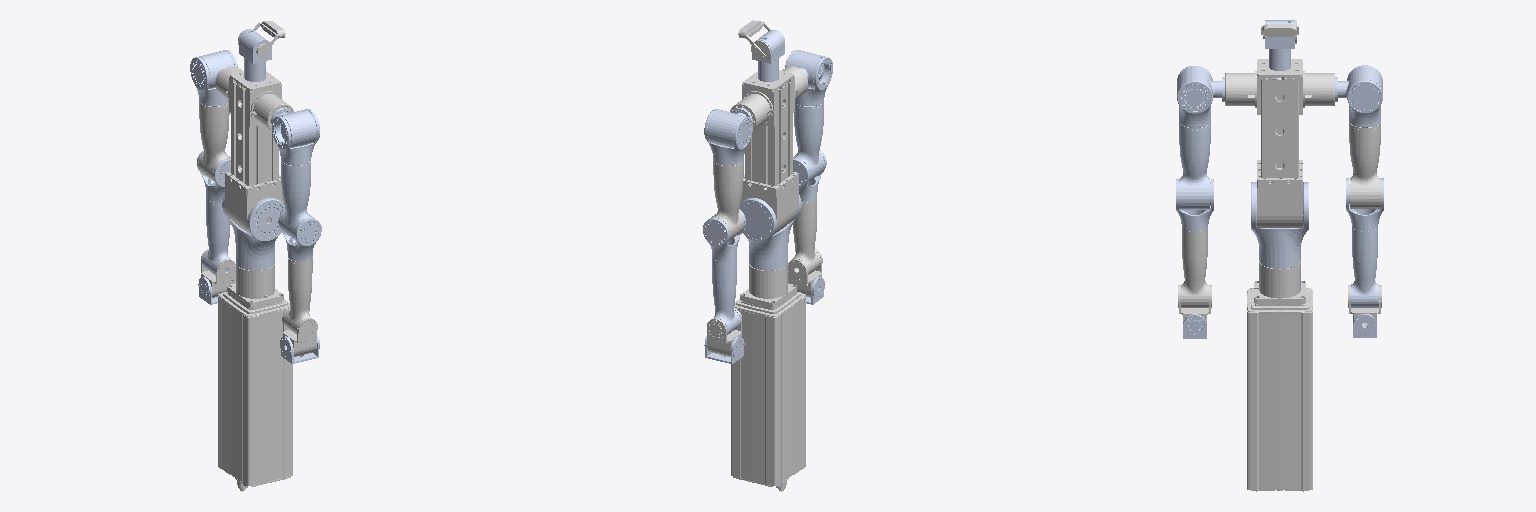
robot.urdf — H1:
<?xml version="1.0" encoding="utf-8"?>
<!-- This URDF was automatically created by SolidWorks to URDF Exporter! Originally created by Stephen Brawner (brawner@gmail.com) 
     Commit Version: 1.6.0-4-g7f85cfe  Build Version: 1.6.7995.38578
     For more information, please see http://wiki.ros.org/sw_urdf_exporter -->
<robot
  name="H1">
  <link
    name="base_link">
    <inertial>
      <origin
        xyz="-1.8555E-05 -2.7511E-05 0.27469"
        rpy="0 0 0" />
      <mass
        value="14.282" />
      <inertia
        ixx="0.36802"
        ixy="2.4121E-08"
        ixz="-3.9806E-06"
        iyy="0.35825"
        iyz="1.9699E-05"
        izz="0.061685" />
    </inertial>
    <visual>
      <origin
        xyz="0 0 0"
        rpy="0 0 0" />
      <geometry>
        <mesh
          filename="package://H1/meshes/base_link.STL" />
      </geometry>
      <material
        name="">
        <color
          rgba="0.89412 0.89412 0.89412 1" />
      </material>
    </visual>
    <collision>
      <origin
        xyz="0 0 0"
        rpy="0 0 0" />
      <geometry>
        <mesh
          filename="package://H1/meshes/base_link.STL" />
      </geometry>
    </collision>
  </link>
  <link
    name="waist_Link_j1">
    <inertial>
      <origin
        xyz="-7.2904E-06 -0.0083807 0.096361"
        rpy="0 0 0" />
      <mass
        value="1.677" />
      <inertia
        ixx="0.0079723"
        ixy="3.3223E-07"
        ixz="6.4221E-07"
        iyy="0.0066121"
        iyz="0.00039378"
        izz="0.0055981" />
    </inertial>
    <visual>
      <origin
        xyz="0 0 0"
        rpy="0 0 0" />
      <geometry>
        <mesh
          filename="package://H1/meshes/waist_Link_j1.STL" />
      </geometry>
      <material
        name="">
        <color
          rgba="0.86667 0.9098 1 1" />
      </material>
    </visual>
    <collision>
      <origin
        xyz="0 0 0"
        rpy="0 0 0" />
      <geometry>
        <mesh
          filename="package://H1/meshes/waist_Link_j1.STL" />
      </geometry>
    </collision>
  </link>
  <joint
    name="J1"
    type="revolute">
    <origin
      xyz="0 0 0.641"
      rpy="0 0 0" />
    <parent
      link="base_link" />
    <child
      link="waist_Link_j1" />
    <axis
      xyz="0 0 -1" />
    <limit
      lower="0"
      upper="0"
      effort="0"
      velocity="0" />
  </joint>
  <link
    name="waist_link_J2">
    <inertial>
      <origin
        xyz="-3.6907E-07 -0.0043997 0.20706"
        rpy="0 0 0" />
      <mass
        value="2.9129" />
      <inertia
        ixx="0.013533"
        ixy="7.2558E-09"
        ixz="-2.8162E-08"
        iyy="0.014161"
        iyz="-3.232E-06"
        izz="0.006488" />
    </inertial>
    <visual>
      <origin
        xyz="0 0 0"
        rpy="0 0 0" />
      <geometry>
        <mesh
          filename="package://H1/meshes/waist_link_J2.STL" />
      </geometry>
      <material
        name="">
        <color
          rgba="0.89412 0.89412 0.89412 1" />
      </material>
    </visual>
    <collision>
      <origin
        xyz="0 0 0"
        rpy="0 0 0" />
      <geometry>
        <mesh
          filename="package://H1/meshes/waist_link_J2.STL" />
      </geometry>
    </collision>
  </link>
  <joint
    name="waist_J2"
    type="revolute">
    <origin
      xyz="0 0 0.16"
      rpy="0 0 0" />
    <parent
      link="waist_Link_j1" />
    <child
      link="waist_link_J2" />
    <axis
      xyz="0 1 0" />
    <limit
      lower="0"
      upper="0"
      effort="0"
      velocity="0" />
  </joint>
  <link
    name="left_link_J1">
    <inertial>
      <origin
        xyz="-0.0043288 0.069057 -4.5569E-05"
        rpy="0 0 0" />
      <mass
        value="0.4143" />
      <inertia
        ixx="0.00094555"
        ixy="8.5245E-06"
        ixz="-4.4453E-07"
        iyy="0.0006241"
        iyz="9.241E-08"
        izz="0.00078642" />
    </inertial>
    <visual>
      <origin
        xyz="0 0 0"
        rpy="0 0 0" />
      <geometry>
        <mesh
          filename="package://H1/meshes/left_link_J1.STL" />
      </geometry>
      <material
        name="">
        <color
          rgba="0.86667 0.9098 1 1" />
      </material>
    </visual>
    <collision>
      <origin
        xyz="0 0 0"
        rpy="0 0 0" />
      <geometry>
        <mesh
          filename="package://H1/meshes/left_link_J1.STL" />
      </geometry>
    </collision>
  </link>
  <joint
    name="Left_J1"
    type="revolute">
    <origin
      xyz="0 0.1505 0.34"
      rpy="0 0 0" />
    <parent
      link="waist_link_J2" />
    <child
      link="left_link_J1" />
    <axis
      xyz="0 1 0" />
    <limit
      lower="0"
      upper="0"
      effort="0"
      velocity="0" />
  </joint>
  <link
    name="Left_Link_J2">
    <inertial>
      <origin
        xyz="-0.0036277 2.762E-08 -0.039885"
        rpy="0 0 0" />
      <mass
        value="0.52341" />
      <inertia
        ixx="0.0010724"
        ixy="4.1531E-10"
        ixz="3.5524E-05"
        iyy="0.001254"
        iyz="1.098E-08"
        izz="0.00097409" />
    </inertial>
    <visual>
      <origin
        xyz="0 0 0"
        rpy="0 0 0" />
      <geometry>
        <mesh
          filename="package://H1/meshes/Left_Link_J2.STL" />
      </geometry>
      <material
        name="">
        <color
          rgba="0.86667 0.9098 1 1" />
      </material>
    </visual>
    <collision>
      <origin
        xyz="0 0 0"
        rpy="0 0 0" />
      <geometry>
        <mesh
          filename="package://H1/meshes/Left_Link_J2.STL" />
      </geometry>
    </collision>
  </link>
  <joint
    name="Left_J2"
    type="revolute">
    <origin
      xyz="0 0.075 0"
      rpy="0 0 0" />
    <parent
      link="left_link_J1" />
    <child
      link="Left_Link_J2" />
    <axis
      xyz="1 0 0" />
    <limit
      lower="0"
      upper="0"
      effort="0"
      velocity="0" />
  </joint>
  <link
    name="Left_Link_J3">
    <inertial>
      <origin
        xyz="0.0056911 -0.0019239 -0.13085"
        rpy="0 0 0" />
      <mass
        value="0.57095" />
      <inertia
        ixx="0.0032686"
        ixy="5.8681E-06"
        ixz="0.00023039"
        iyy="0.0033236"
        iyz="-6.6E-05"
        izz="0.00081295" />
    </inertial>
    <visual>
      <origin
        xyz="0 0 0"
        rpy="0 0 0" />
      <geometry>
        <mesh
          filename="package://H1/meshes/Left_Link_J3.STL" />
      </geometry>
      <material
        name="">
        <color
          rgba="0.89412 0.89412 0.89412 1" />
      </material>
    </visual>
    <collision>
      <origin
        xyz="0 0 0"
        rpy="0 0 0" />
      <geometry>
        <mesh
          filename="package://H1/meshes/Left_Link_J3.STL" />
      </geometry>
    </collision>
  </link>
  <joint
    name="Left_J3"
    type="revolute">
    <origin
      xyz="0 0 -0.093"
      rpy="0 0 0" />
    <parent
      link="Left_Link_J2" />
    <child
      link="Left_Link_J3" />
    <axis
      xyz="0 0 1" />
    <limit
      lower="0"
      upper="0"
      effort="0"
      velocity="0" />
  </joint>
  <link
    name="left_Link_j4">
    <inertial>
      <origin
        xyz="-0.00025246 -0.0039161 -0.041415"
        rpy="0 0 0" />
      <mass
        value="0.44416" />
      <inertia
        ixx="0.00095212"
        ixy="3.4384E-07"
        ixz="-4.8819E-06"
        iyy="0.00071305"
        iyz="4.7723E-05"
        izz="0.00065512" />
    </inertial>
    <visual>
      <origin
        xyz="0 0 0"
        rpy="0 0 0" />
      <geometry>
        <mesh
          filename="package://H1/meshes/left_Link_j4.STL" />
      </geometry>
      <material
        name="">
        <color
          rgba="0.86667 0.9098 1 1" />
      </material>
    </visual>
    <collision>
      <origin
        xyz="0 0 0"
        rpy="0 0 0" />
      <geometry>
        <mesh
          filename="package://H1/meshes/left_Link_j4.STL" />
      </geometry>
    </collision>
  </link>
  <joint
    name="Left_J4"
    type="revolute">
    <origin
      xyz="0.012 0 -0.2065"
      rpy="0 0 0" />
    <parent
      link="Left_Link_J3" />
    <child
      link="left_Link_j4" />
    <axis
      xyz="0 -1 0" />
    <limit
      lower="0"
      upper="0"
      effort="0"
      velocity="0" />
  </joint>
  <link
    name="Left_Link_J5">
    <inertial>
      <origin
        xyz="-3.7549E-06 0.0015048 -0.11283"
        rpy="0 0 0" />
      <mass
        value="0.4197" />
      <inertia
        ixx="0.0021747"
        ixy="3.5119E-08"
        ixz="-2.8092E-07"
        iyy="0.0021607"
        iyz="5.1943E-05"
        izz="0.00040276" />
    </inertial>
    <visual>
      <origin
        xyz="0 0 0"
        rpy="0 0 0" />
      <geometry>
        <mesh
          filename="package://H1/meshes/Left_Link_J5.STL" />
      </geometry>
      <material
        name="">
        <color
          rgba="0.86667 0.9098 1 1" />
      </material>
    </visual>
    <collision>
      <origin
        xyz="0 0 0"
        rpy="0 0 0" />
      <geometry>
        <mesh
          filename="package://H1/meshes/Left_Link_J5.STL" />
      </geometry>
    </collision>
  </link>
  <joint
    name="Left_J5"
    type="revolute">
    <origin
      xyz="0 0 -0.0948"
      rpy="0 0 0" />
    <parent
      link="left_Link_j4" />
    <child
      link="Left_Link_J5" />
    <axis
      xyz="0 0 1" />
    <limit
      lower="0"
      upper="0"
      effort="0"
      velocity="0" />
  </joint>
  <link
    name="Left_Link_J6">
    <inertial>
      <origin
        xyz="-0.0010919 0.0066883 -0.030929"
        rpy="0 0 0" />
      <mass
        value="0.16918" />
      <inertia
        ixx="0.00017677"
        ixy="-7.4453E-07"
        ixz="-2.7613E-06"
        iyy="0.00015648"
        iyz="-2.7782E-06"
        izz="0.00014765" />
    </inertial>
    <visual>
      <origin
        xyz="0 0 0"
        rpy="0 0 0" />
      <geometry>
        <mesh
          filename="package://H1/meshes/Left_Link_J6.STL" />
      </geometry>
      <material
        name="">
        <color
          rgba="0.89412 0.89412 0.89412 1" />
      </material>
    </visual>
    <collision>
      <origin
        xyz="0 0 0"
        rpy="0 0 0" />
      <geometry>
        <mesh
          filename="package://H1/meshes/Left_Link_J6.STL" />
      </geometry>
    </collision>
  </link>
  <joint
    name="Left_J6"
    type="revolute">
    <origin
      xyz="0 0 -0.2049"
      rpy="0 0 0" />
    <parent
      link="Left_Link_J5" />
    <child
      link="Left_Link_J6" />
    <axis
      xyz="0 1 0" />
    <limit
      lower="0"
      upper="0"
      effort="0"
      velocity="0" />
  </joint>
  <link
    name="Left_Link_J7">
    <inertial>
      <origin
        xyz="-0.0023003 4.8562E-06 -0.019732"
        rpy="0 0 0" />
      <mass
        value="0.16822" />
      <inertia
        ixx="0.00011104"
        ixy="3.8113E-08"
        ixz="4.2415E-06"
        iyy="0.00019906"
        iyz="-3.6624E-09"
        izz="0.00019805" />
    </inertial>
    <visual>
      <origin
        xyz="0 0 0"
        rpy="0 0 0" />
      <geometry>
        <mesh
          filename="package://H1/meshes/Left_Link_J7.STL" />
      </geometry>
      <material
        name="">
        <color
          rgba="0.86667 0.9098 1 1" />
      </material>
    </visual>
    <collision>
      <origin
        xyz="0 0 0"
        rpy="0 0 0" />
      <geometry>
        <mesh
          filename="package://H1/meshes/Left_Link_J7.STL" />
      </geometry>
    </collision>
  </link>
  <joint
    name="Left_J7"
    type="revolute">
    <origin
      xyz="0 0 -0.064"
      rpy="0 0 0" />
    <parent
      link="Left_Link_J6" />
    <child
      link="Left_Link_J7" />
    <axis
      xyz="1 0 0" />
    <limit
      lower="0"
      upper="0"
      effort="0"
      velocity="0" />
  </joint>
  <link
    name="Right_Link_J1">
    <inertial>
      <origin
        xyz="0.0043288 -0.069057 -4.5569E-05"
        rpy="0 0 0" />
      <mass
        value="0.4143" />
      <inertia
        ixx="0.00094555"
        ixy="8.5245E-06"
        ixz="4.4453E-07"
        iyy="0.0006241"
        iyz="-9.241E-08"
        izz="0.00078642" />
    </inertial>
    <visual>
      <origin
        xyz="0 0 0"
        rpy="0 0 0" />
      <geometry>
        <mesh
          filename="package://H1/meshes/Right_Link_J1.STL" />
      </geometry>
      <material
        name="">
        <color
          rgba="0.86667 0.9098 1 1" />
      </material>
    </visual>
    <collision>
      <origin
        xyz="0 0 0"
        rpy="0 0 0" />
      <geometry>
        <mesh
          filename="package://H1/meshes/Right_Link_J1.STL" />
      </geometry>
    </collision>
  </link>
  <joint
    name="Right_J1"
    type="revolute">
    <origin
      xyz="0 -0.1505 0.34"
      rpy="0 0 0" />
    <parent
      link="waist_link_J2" />
    <child
      link="Right_Link_J1" />
    <axis
      xyz="0 -1 0" />
    <limit
      lower="0"
      upper="0"
      effort="0"
      velocity="0" />
  </joint>
  <link
    name="Right_Link_J2">
    <inertial>
      <origin
        xyz="0.0038069 -3.3841E-08 -0.040778"
        rpy="0 0 0" />
      <mass
        value="0.51194" />
      <inertia
        ixx="0.0010654"
        ixy="3.8697E-10"
        ixz="-3.5524E-05"
        iyy="0.0012505"
        iyz="-1.0972E-08"
        izz="0.00097059" />
    </inertial>
    <visual>
      <origin
        xyz="0 0 0"
        rpy="0 0 0" />
      <geometry>
        <mesh
          filename="package://H1/meshes/Right_Link_J2.STL" />
      </geometry>
      <material
        name="">
        <color
          rgba="0.86667 0.9098 1 1" />
      </material>
    </visual>
    <collision>
      <origin
        xyz="0 0 0"
        rpy="0 0 0" />
      <geometry>
        <mesh
          filename="package://H1/meshes/Right_Link_J2.STL" />
      </geometry>
    </collision>
  </link>
  <joint
    name="Right_J2"
    type="revolute">
    <origin
      xyz="0.001 -0.075 0"
      rpy="0 0 0" />
    <parent
      link="Right_Link_J1" />
    <child
      link="Right_Link_J2" />
    <axis
      xyz="-1 0 0" />
    <limit
      lower="0"
      upper="0"
      effort="0"
      velocity="0" />
  </joint>
  <link
    name="Right_Link_J3">
    <inertial>
      <origin
        xyz="0.0066911 -0.0019239 -0.13085"
        rpy="0 0 0" />
      <mass
        value="0.57095" />
      <inertia
        ixx="0.0032686"
        ixy="5.8681E-06"
        ixz="0.00023039"
        iyy="0.0033236"
        iyz="-6.6E-05"
        izz="0.00081295" />
    </inertial>
    <visual>
      <origin
        xyz="0 0 0"
        rpy="0 0 0" />
      <geometry>
        <mesh
          filename="package://H1/meshes/Right_Link_J3.STL" />
      </geometry>
      <material
        name="">
        <color
          rgba="0.86667 0.9098 1 1" />
      </material>
    </visual>
    <collision>
      <origin
        xyz="0 0 0"
        rpy="0 0 0" />
      <geometry>
        <mesh
          filename="package://H1/meshes/Right_Link_J3.STL" />
      </geometry>
    </collision>
  </link>
  <joint
    name="Right_J3"
    type="revolute">
    <origin
      xyz="0 0 -0.093"
      rpy="0 0 0" />
    <parent
      link="Right_Link_J2" />
    <child
      link="Right_Link_J3" />
    <axis
      xyz="0 0 1" />
    <limit
      lower="0"
      upper="0"
      effort="0"
      velocity="0" />
  </joint>
  <link
    name="Right_Link_J4">
    <inertial>
      <origin
        xyz="-0.00025246 -0.0039161 -0.041415"
        rpy="0 0 0" />
      <mass
        value="0.44416" />
      <inertia
        ixx="0.00095212"
        ixy="3.4384E-07"
        ixz="-4.8819E-06"
        iyy="0.00071305"
        iyz="4.7723E-05"
        izz="0.00065512" />
    </inertial>
    <visual>
      <origin
        xyz="0 0 0"
        rpy="0 0 0" />
      <geometry>
        <mesh
          filename="package://H1/meshes/Right_Link_J4.STL" />
      </geometry>
      <material
        name="">
        <color
          rgba="0.86667 0.9098 1 1" />
      </material>
    </visual>
    <collision>
      <origin
        xyz="0 0 0"
        rpy="0 0 0" />
      <geometry>
        <mesh
          filename="package://H1/meshes/Right_Link_J4.STL" />
      </geometry>
    </collision>
  </link>
  <joint
    name="Right_J4"
    type="revolute">
    <origin
      xyz="0.013 0 -0.2065"
      rpy="0 0 0" />
    <parent
      link="Right_Link_J3" />
    <child
      link="Right_Link_J4" />
    <axis
      xyz="0 -1 0" />
    <limit
      lower="0"
      upper="0"
      effort="0"
      velocity="0" />
  </joint>
  <link
    name="Right_Link_J5">
    <inertial>
      <origin
        xyz="3.7549E-06 -0.0015048 -0.11283"
        rpy="0 0 0" />
      <mass
        value="0.4197" />
      <inertia
        ixx="0.0021747"
        ixy="3.5119E-08"
        ixz="2.8092E-07"
        iyy="0.0021607"
        iyz="-5.1943E-05"
        izz="0.00040276" />
    </inertial>
    <visual>
      <origin
        xyz="0 0 0"
        rpy="0 0 0" />
      <geometry>
        <mesh
          filename="package://H1/meshes/Right_Link_J5.STL" />
      </geometry>
      <material
        name="">
        <color
          rgba="0.89412 0.89412 0.89412 1" />
      </material>
    </visual>
    <collision>
      <origin
        xyz="0 0 0"
        rpy="0 0 0" />
      <geometry>
        <mesh
          filename="package://H1/meshes/Right_Link_J5.STL" />
      </geometry>
    </collision>
  </link>
  <joint
    name="Right_J5"
    type="revolute">
    <origin
      xyz="0 0 -0.0948"
      rpy="0 0 0" />
    <parent
      link="Right_Link_J4" />
    <child
      link="Right_Link_J5" />
    <axis
      xyz="0 0 1" />
    <limit
      lower="0"
      upper="0"
      effort="0"
      velocity="0" />
  </joint>
  <link
    name="Right_Link_J6">
    <inertial>
      <origin
        xyz="0.0010919 -0.0066883 -0.030929"
        rpy="0 0 0" />
      <mass
        value="0.16918" />
      <inertia
        ixx="0.00017677"
        ixy="-7.4453E-07"
        ixz="2.7613E-06"
        iyy="0.00015648"
        iyz="2.7782E-06"
        izz="0.00014765" />
    </inertial>
    <visual>
      <origin
        xyz="0 0 0"
        rpy="0 0 0" />
      <geometry>
        <mesh
          filename="package://H1/meshes/Right_Link_J6.STL" />
      </geometry>
      <material
        name="">
        <color
          rgba="0.89412 0.89412 0.89412 1" />
      </material>
    </visual>
    <collision>
      <origin
        xyz="0 0 0"
        rpy="0 0 0" />
      <geometry>
        <mesh
          filename="package://H1/meshes/Right_Link_J6.STL" />
      </geometry>
    </collision>
  </link>
  <joint
    name="Right_j6"
    type="revolute">
    <origin
      xyz="0 0 -0.2049"
      rpy="0 0 0" />
    <parent
      link="Right_Link_J5" />
    <child
      link="Right_Link_J6" />
    <axis
      xyz="0 1 0" />
    <limit
      lower="0"
      upper="0"
      effort="0"
      velocity="0" />
  </joint>
  <link
    name="Right_Link_J7">
    <inertial>
      <origin
        xyz="0.0023003 -4.8562E-06 -0.019732"
        rpy="0 0 0" />
      <mass
        value="0.16822" />
      <inertia
        ixx="0.00011104"
        ixy="3.8113E-08"
        ixz="-4.2415E-06"
        iyy="0.00019906"
        iyz="3.6624E-09"
        izz="0.00019805" />
    </inertial>
    <visual>
      <origin
        xyz="0 0 0"
        rpy="0 0 0" />
      <geometry>
        <mesh
          filename="package://H1/meshes/Right_Link_J7.STL" />
      </geometry>
      <material
        name="">
        <color
          rgba="0.86667 0.9098 1 1" />
      </material>
    </visual>
    <collision>
      <origin
        xyz="0 0 0"
        rpy="0 0 0" />
      <geometry>
        <mesh
          filename="package://H1/meshes/Right_Link_J7.STL" />
      </geometry>
    </collision>
  </link>
  <joint
    name="Right_J7"
    type="revolute">
    <origin
      xyz="0 0 -0.064"
      rpy="0 0 0" />
    <parent
      link="Right_Link_J6" />
    <child
      link="Right_Link_J7" />
    <axis
      xyz="1 0 0" />
    <limit
      lower="0"
      upper="0"
      effort="0"
      velocity="0" />
  </joint>
  <link
    name="head_j1">
    <inertial>
      <origin
        xyz="8.957E-10 -0.0015181 0.06193"
        rpy="0 0 0" />
      <mass
        value="0.16247" />
      <inertia
        ixx="0.00017836"
        ixy="-3.9283E-12"
        ixz="1.5782E-12"
        iyy="0.00016338"
        iyz="1.6208E-06"
        izz="0.00016541" />
    </inertial>
    <visual>
      <origin
        xyz="0 0 0"
        rpy="0 0 0" />
      <geometry>
        <mesh
          filename="package://H1/meshes/head_j1.STL" />
      </geometry>
      <material
        name="">
        <color
          rgba="0.86667 0.9098 1 1" />
      </material>
    </visual>
    <collision>
      <origin
        xyz="0 0 0"
        rpy="0 0 0" />
      <geometry>
        <mesh
          filename="package://H1/meshes/head_j1.STL" />
      </geometry>
    </collision>
  </link>
  <joint
    name="head_j1"
    type="revolute">
    <origin
      xyz="0 0 0.4078"
      rpy="0 0 0" />
    <parent
      link="waist_link_J2" />
    <child
      link="head_j1" />
    <axis
      xyz="0 0 -1" />
    <limit
      lower="0"
      upper="0"
      effort="0"
      velocity="0" />
  </joint>
  <link
    name="Head_Link_j2">
    <inertial>
      <origin
        xyz="0.037458 0.012369 0.022008"
        rpy="0 0 0" />
      <mass
        value="0.090281" />
      <inertia
        ixx="4.3984E-05"
        ixy="-1.2024E-09"
        ixz="-1.3726E-06"
        iyy="1.8379E-05"
        iyz="-9.7142E-10"
        izz="4.4721E-05" />
    </inertial>
    <visual>
      <origin
        xyz="0 0 0"
        rpy="0 0 0" />
      <geometry>
        <mesh
          filename="package://H1/meshes/Head_Link_j2.STL" />
      </geometry>
      <material
        name="">
        <color
          rgba="0.89412 0.89412 0.89412 1" />
      </material>
    </visual>
    <collision>
      <origin
        xyz="0 0 0"
        rpy="0 0 0" />
      <geometry>
        <mesh
          filename="package://H1/meshes/Head_Link_j2.STL" />
      </geometry>
    </collision>
  </link>
  <joint
    name="Head_j2"
    type="revolute">
    <origin
      xyz="0 0 0.1"
      rpy="0 0 0" />
    <parent
      link="head_j1" />
    <child
      link="Head_Link_j2" />
    <axis
      xyz="0 1 0" />
    <limit
      lower="0"
      upper="0"
      effort="0"
      velocity="0" />
  </joint>
</robot>

--- Render facts (derived) ---
3 views of the same robot in one strip: view 1: azimuth 30°, elevation 25°; view 2: azimuth 150°, elevation 25°; view 3: azimuth 270°, elevation 25° (orthographic).
Model H1 with 19 links and 18 joints (18 revolute), rooted at base_link, posed every joint at zero.
Visible links, largest first — view 1: base_link, waist_link_J2, waist_Link_j1, Right_Link_J3, Left_Link_J3, Right_Link_J5, Left_Link_J5, Right_Link_J2, head_j1, Right_Link_J4, Right_Link_J1, Left_Link_J2 (+4 smaller); view 2: base_link, waist_link_J2, waist_Link_j1, Left_Link_J3, Right_Link_J3, Left_Link_J5, Right_Link_J5, Left_Link_J2, left_Link_j4, left_link_J1, Right_Link_J2, head_j1 (+5 smaller); view 3: base_link, waist_link_J2, Right_Link_J3, Left_Link_J3, waist_Link_j1, Left_Link_J5, Right_Link_J5, Left_Link_J2, Right_Link_J2, head_j1, left_Link_j4, Right_Link_J4 (+3 smaller).
Link boxes in pixels (<box>): base_link: <box>218,264,292,491</box>; waist_link_J2: <box>216,66,293,236</box>; waist_Link_j1: <box>222,195,284,270</box>; Right_Link_J3: <box>280,161,313,240</box>; Left_Link_J3: <box>198,101,230,181</box>; Right_Link_J5: <box>284,257,312,334</box>; Left_Link_J5: <box>202,199,230,275</box>; Right_Link_J2: <box>272,109,319,165</box>; head_j1: <box>239,30,271,81</box>; Right_Link_J4: <box>278,209,321,261</box>; Right_Link_J1: <box>271,108,316,147</box>; Left_Link_J2: <box>190,50,237,106</box>; base_link: <box>731,264,805,491</box>; waist_link_J2: <box>730,66,807,238</box>; waist_Link_j1: <box>739,195,801,270</box>; Left_Link_J3: <box>708,160,744,240</box>; Right_Link_J3: <box>793,102,824,180</box>; Left_Link_J5: <box>712,258,740,334</box>; Right_Link_J5: <box>792,199,820,274</box>; Left_Link_J2: <box>704,109,752,165</box>; left_Link_j4: <box>703,209,745,261</box>; left_link_J1: <box>707,108,752,147</box>; Right_Link_J2: <box>785,50,832,105</box>; head_j1: <box>752,30,784,81</box>; base_link: <box>1247,261,1312,491</box>; waist_link_J2: <box>1225,59,1334,227</box>; Right_Link_J3: <box>1179,123,1210,209</box>; Left_Link_J3: <box>1349,122,1380,208</box>; waist_Link_j1: <box>1251,182,1308,268</box>; Left_Link_J5: <box>1351,228,1378,307</box>; Right_Link_J5: <box>1181,228,1208,307</box>; Left_Link_J2: <box>1347,65,1382,127</box>; Right_Link_J2: <box>1177,66,1212,127</box>; head_j1: <box>1265,20,1294,70</box>; left_Link_j4: <box>1346,178,1383,231</box>; Right_Link_J4: <box>1176,179,1213,231</box>.
Size in the robot's own frame: 0.1507 by 0.554 by 1.41 metres.
Meshes: 19 distinct files referenced, 19 mesh visuals loaded (19 binary STL).
